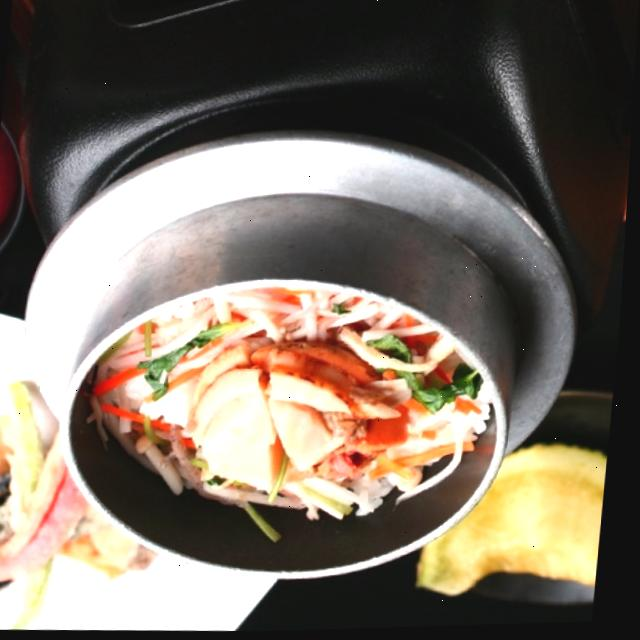炸货点心: (48, 0, 577, 638)
熟制海鲜: (48, 0, 577, 638)
